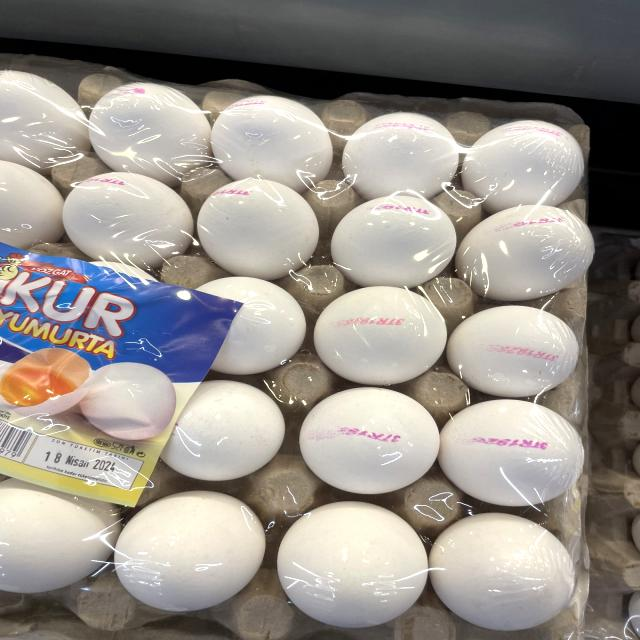egg: (265, 493, 431, 634), (426, 506, 586, 639), (438, 381, 590, 512), (113, 485, 268, 613), (293, 380, 443, 499), (310, 274, 450, 386), (52, 164, 201, 267), (188, 170, 321, 282), (454, 199, 602, 298), (325, 184, 463, 290), (84, 70, 220, 177), (207, 91, 341, 192), (442, 297, 586, 389), (334, 92, 469, 190), (462, 111, 586, 202)
